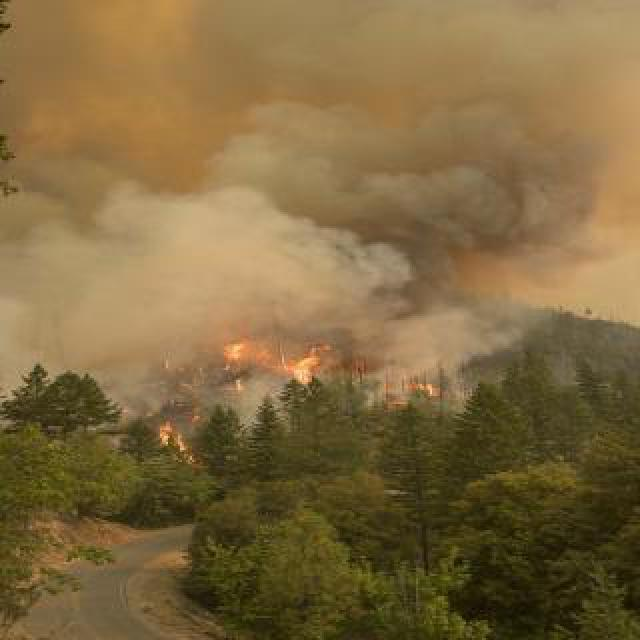Fire: (220, 338, 336, 378), (140, 368, 186, 450), (382, 380, 466, 410)
